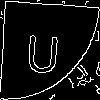U: (24, 25, 62, 75)
